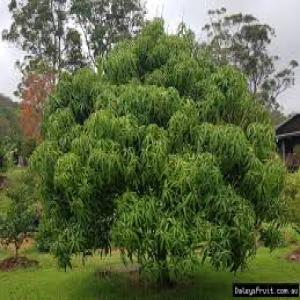Tree: (30, 14, 291, 281)
